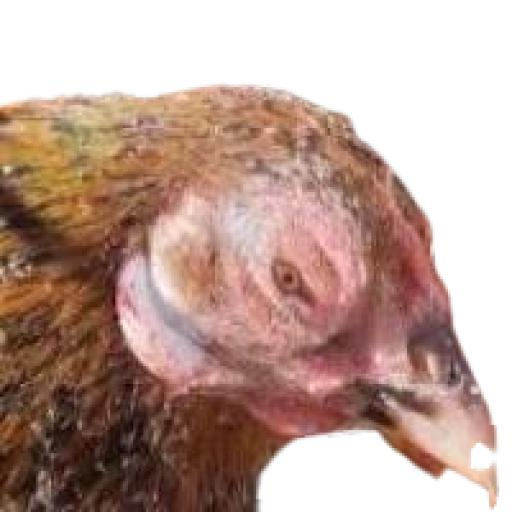disease: (193, 167, 374, 344)
